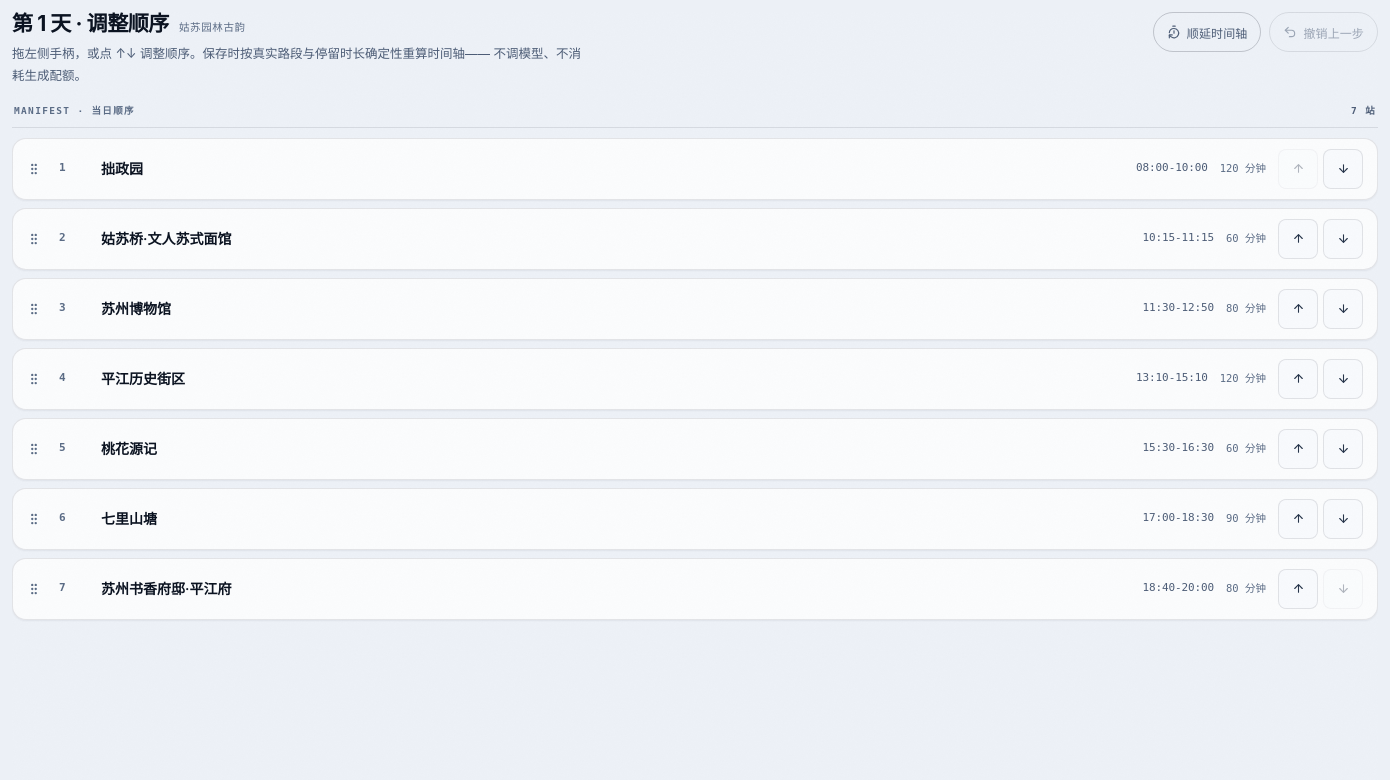
Test: DayArrange 调整镜头 › 「顺延时间轴」走 op=retime（确定性，不占生成配额）
Click the button "顺延时间轴" at (1207, 32), box [1153,12,1261,52]
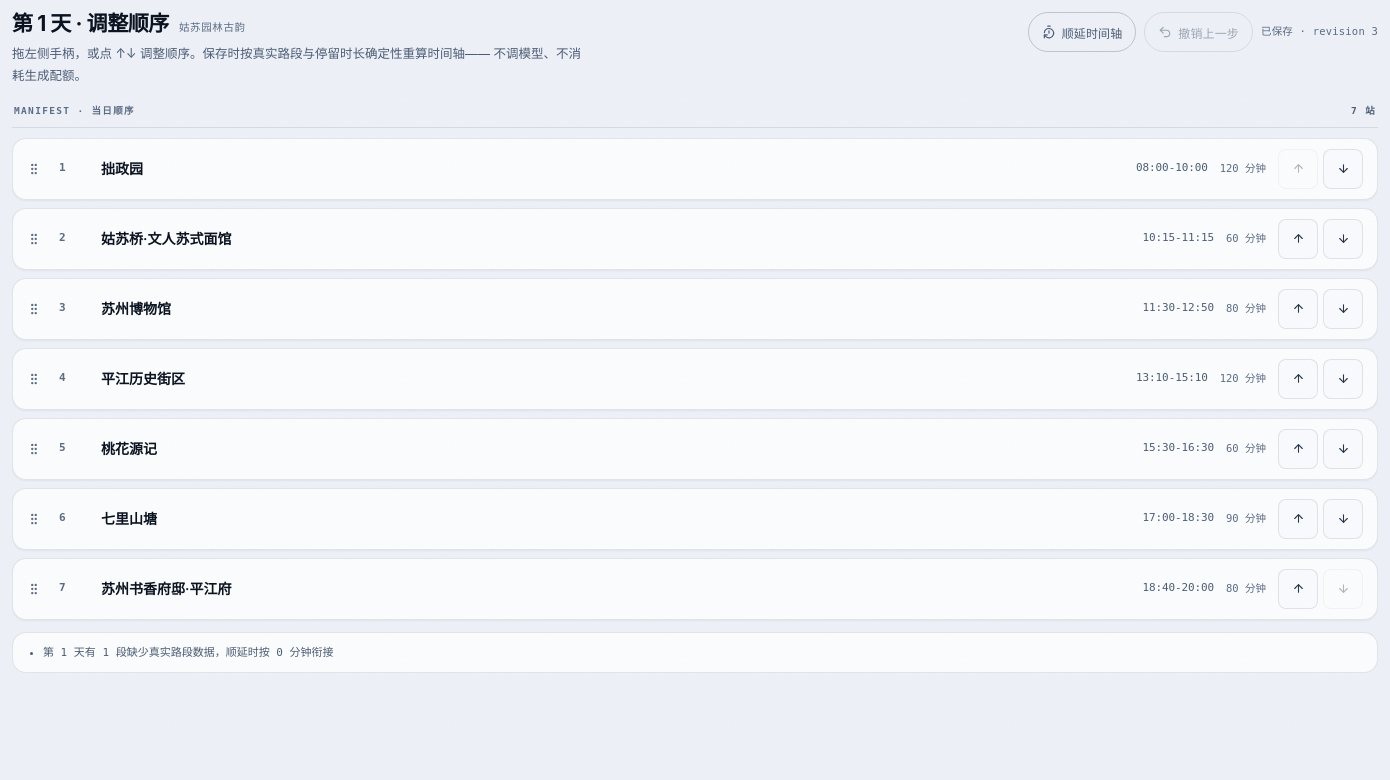
Result: the list item "第 1 天有 1 段缺少真实路段数据，顺延时按 0 分钟衔接" is shown at [43,646,334,659]
